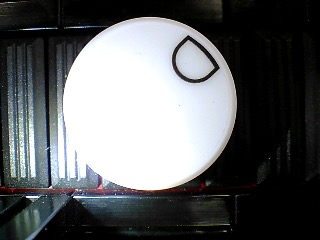MIPO1: (62, 17, 237, 191)
